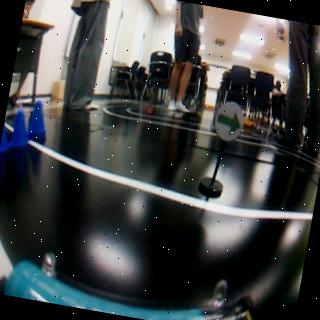right: (211, 99, 248, 143)
